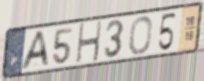3: (103, 17, 126, 60)
5: (53, 26, 75, 65), (157, 11, 177, 51)
A: (18, 30, 51, 72)
H: (75, 19, 103, 65)
O: (128, 14, 154, 56)
